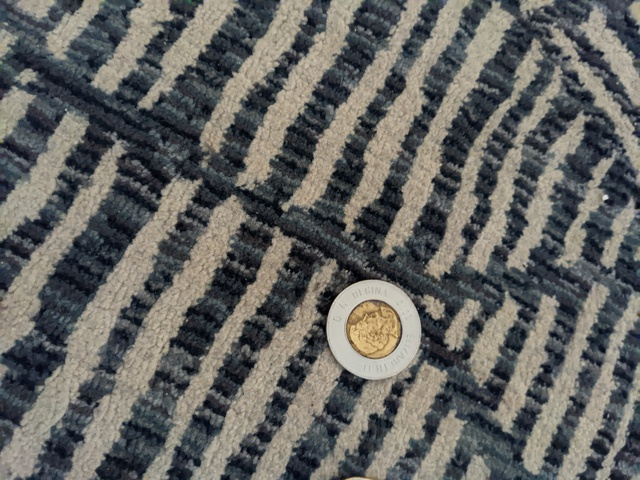twonie: (316, 262, 435, 380)
